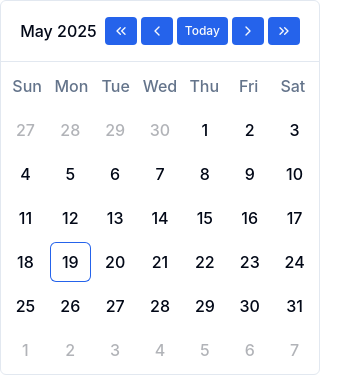
Test: Calendar › navigates to previous and next month
This screenshot has width=337, height=392.
Click the button named "Go to next month".
click(248, 31)  # box [232, 17, 264, 45]
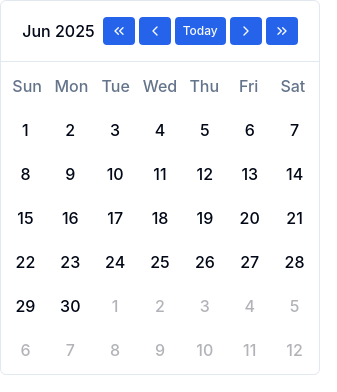
Now the text "May 2025" is gone
Click the button named "Go to previous month".
click(155, 31)  # box [139, 17, 171, 45]
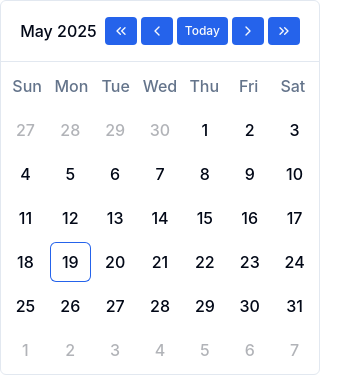
Now the text "May 2025" is shown, box [20, 19, 97, 43]
